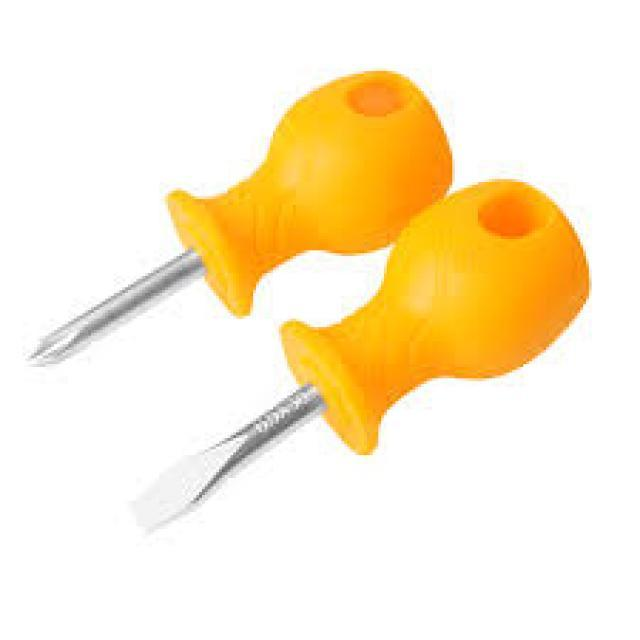screwdriver: (125, 178, 592, 536), (17, 70, 461, 374)
